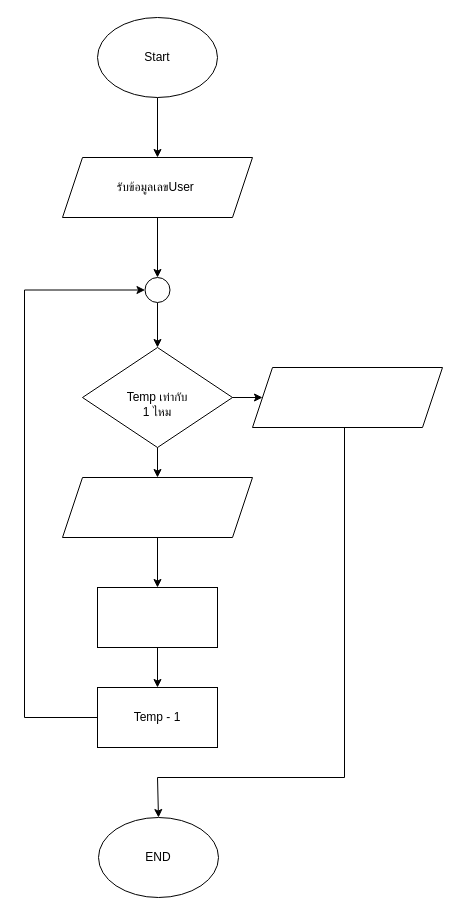
The diagram is 460 pixels wide and 915 high, and some of its shapes have lost their labels. The shapes that lost their labels are listed below. From the top down, each one's centre as x and y in pixels, then its label:
At [347,397]: "แสดงผลรวม".
At [157,507]: "แสดงวิธีการคูณ".
At [157,617]: "คูณสะสมค่า".
